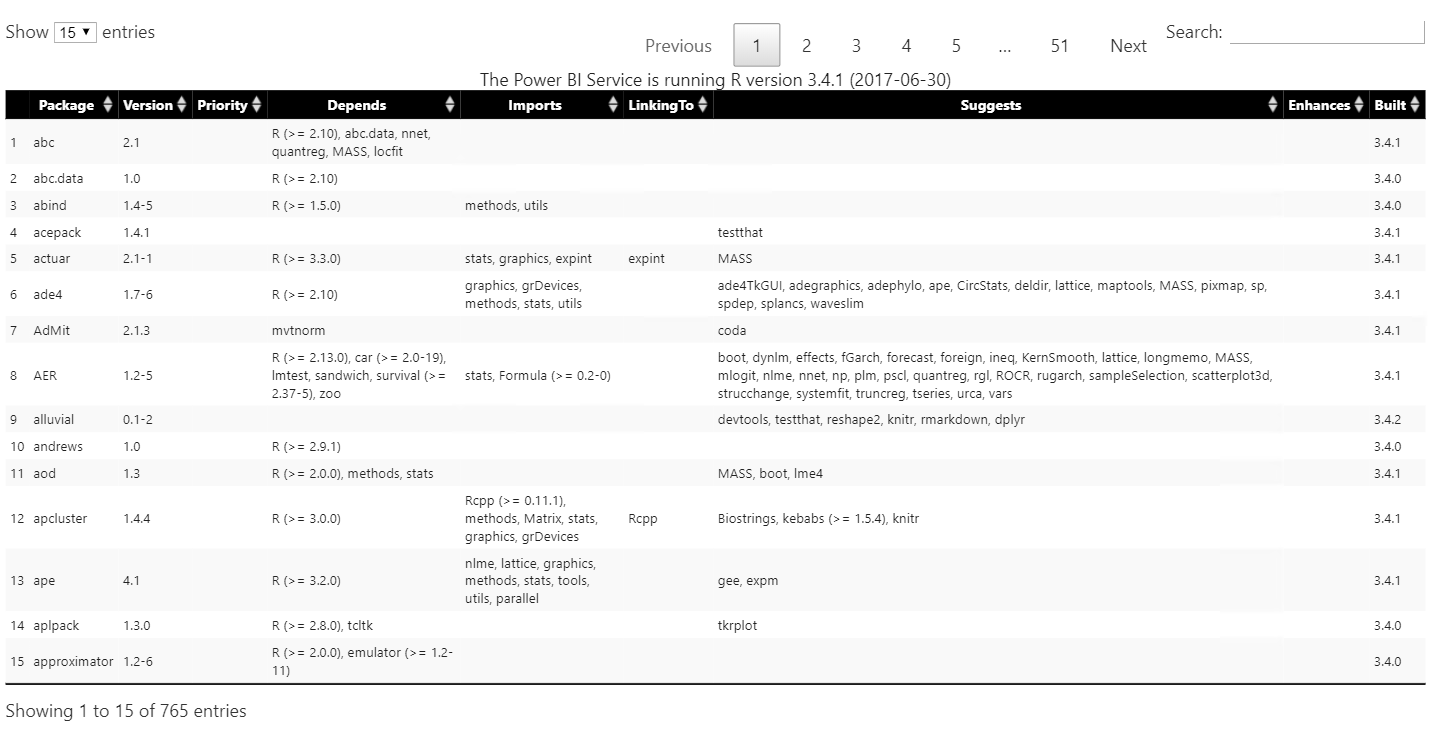

What the dashboard file says about the page in this screenshot:
{"tool":"powerbi","page":{"name":"Page 1","canvas":[1280,720],"ordinal":0},"visuals":[{"type":"VerbatimExplorerD13F83D6C74E41AEAFBA81E2A78FFEDD","fields":{"Values":["Sum(Table1.Column1)"]},"box":[0,0,1280,632],"z":1}]}

Visuals, with their boxes on the page's 1280x720 design canvas (x1, y1, x2, y2). These are canvas units, not pixel positions in the 1429x740 screenshot, which may show the page scaled, cropped or inside an application window:
VerbatimExplorerD13F83D6C74E41AEAFBA81E2A78FFEDD - Sum(Table1.Column1): l=0, t=0, r=1280, b=632
